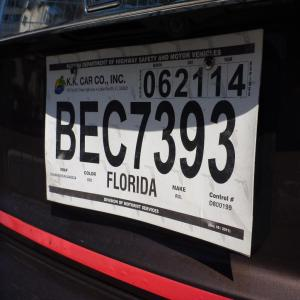Vehicle-registration-plate: (34, 39, 276, 255)
